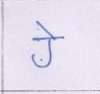e_matra: (36, 21, 55, 36)
